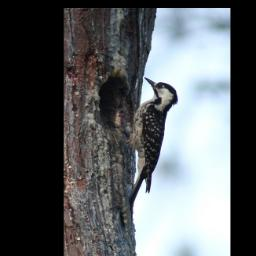Woodpecker: (108, 75, 179, 208)
